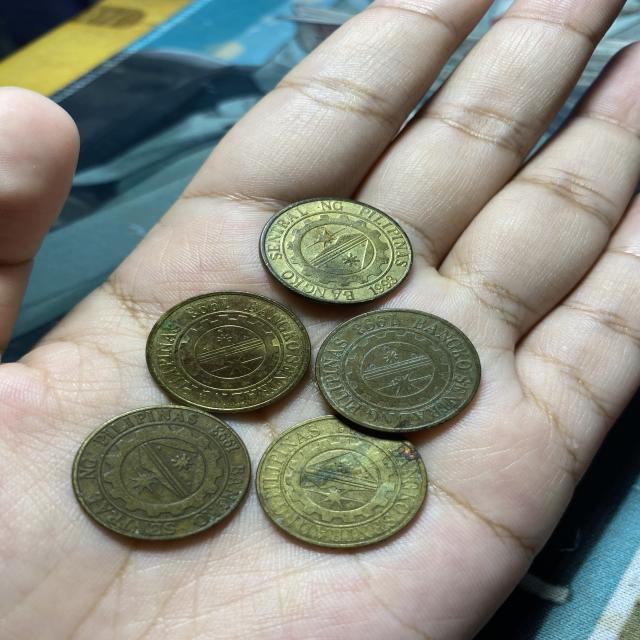25Cent_Old_Back: (67, 410, 255, 549), (253, 428, 432, 555), (315, 316, 475, 440), (145, 298, 306, 409), (270, 198, 413, 296)
